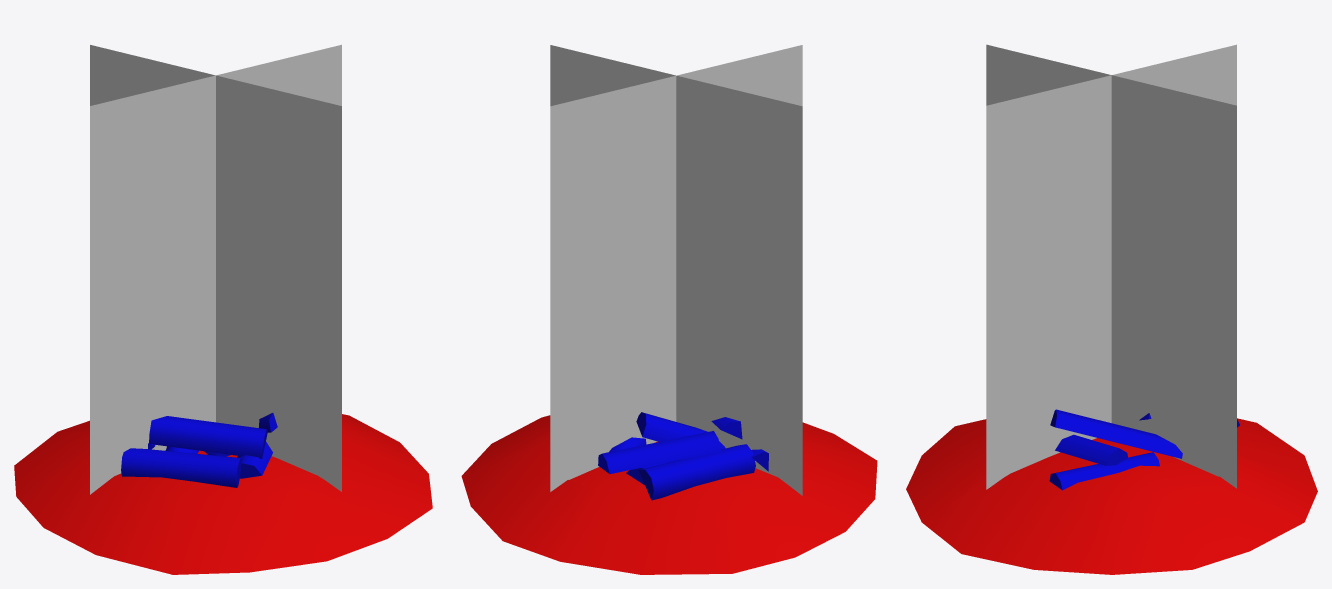
The model's file is CampFire_00.fbx.
3 renders of one model, left to right at view 1: azimuth 30°, elevation 25°; view 2: azimuth 150°, elevation 25°; view 3: azimuth 270°, elevation 25°, orthographic.
Parts seen in each view (by area): view 1: CampFire_Flames_00, CampFire_Base_00; view 2: CampFire_Flames_00, CampFire_Base_00; view 3: CampFire_Flames_00, CampFire_Base_00.
Boxes of the visible parts, x1=… form: CampFire_Flames_00: x1=90, y1=44, x2=341, y2=494; CampFire_Base_00: x1=14, y1=413, x2=432, y2=574; CampFire_Flames_00: x1=550, y1=45, x2=802, y2=495; CampFire_Base_00: x1=461, y1=412, x2=877, y2=574; CampFire_Flames_00: x1=986, y1=44, x2=1236, y2=489; CampFire_Base_00: x1=906, y1=409, x2=1317, y2=574.
Size of the model in its own units: 0.9712 by 1.08 by 0.9808.
